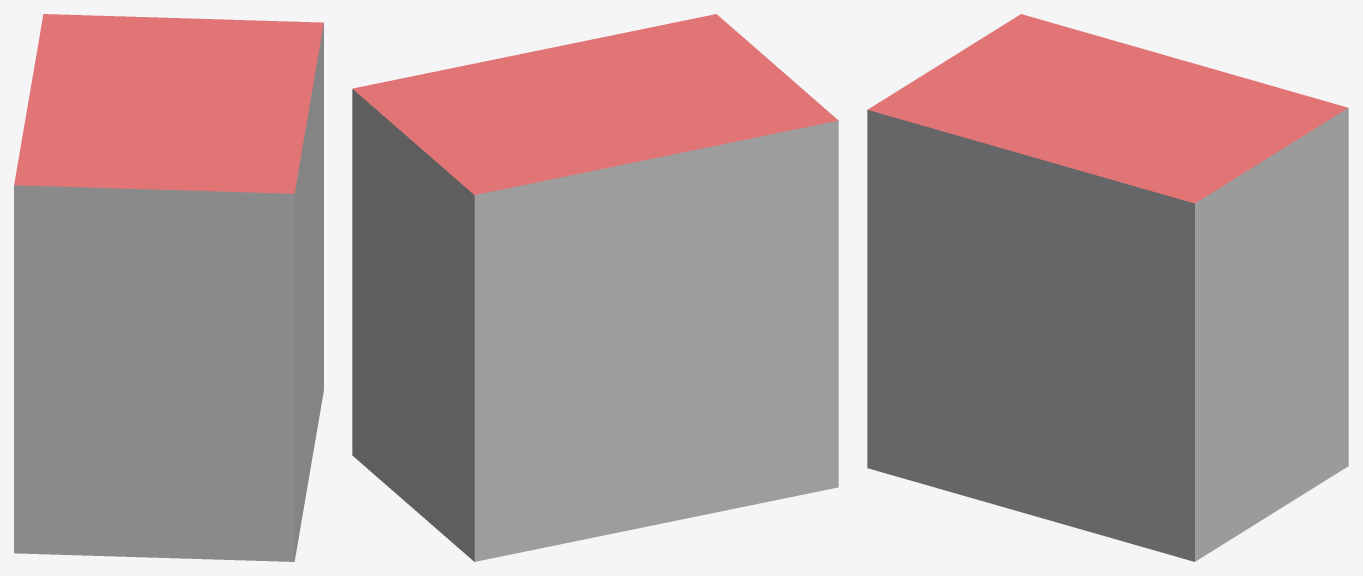
The picture shows the model from 3 angles, left to right: view 1: azimuth 30°, elevation 25°; view 2: azimuth 150°, elevation 25°; view 3: azimuth 270°, elevation 25°; orthographic projection. The views are drawn at different scales.
Visible parts, largest first — view 1: Z_UP; view 2: Z_UP; view 3: Z_UP.
Boxes of the visible parts, <box> form: Z_UP: <box>14,14,323,561</box>; Z_UP: <box>352,14,838,561</box>; Z_UP: <box>867,14,1348,561</box>.
Size of the model in its own units: 14.74 by 13 by 15.81.
